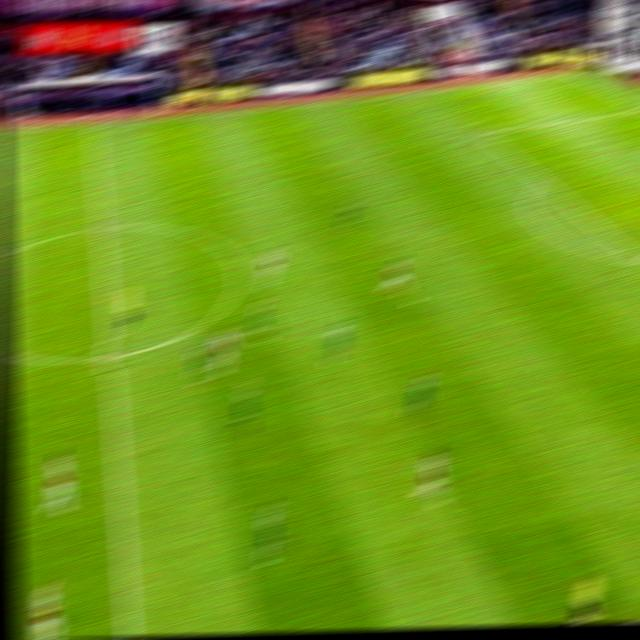bigarea_top_inner: (470, 124, 494, 141)
bigarea_top_outter: (629, 101, 640, 117)
bottom_arc_area_intersection: (626, 250, 640, 268)
corner: (557, 67, 582, 79)
halfcircle_bottom: (94, 342, 123, 370)
halfcircle_top: (83, 214, 116, 241)
midline_top_intersection: (82, 116, 105, 134)
top_arc_area_intersection: (529, 171, 553, 189)
